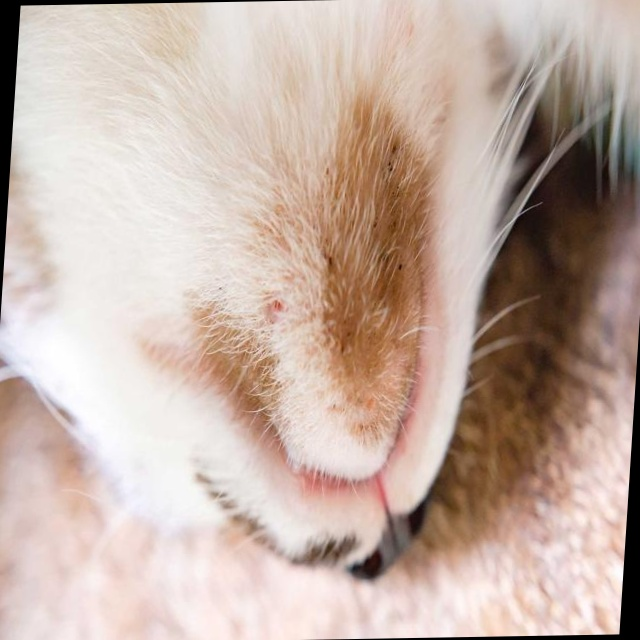acne: (298, 125, 437, 349)
